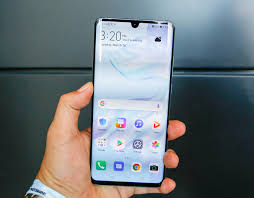huawei: (89, 15, 173, 188)
